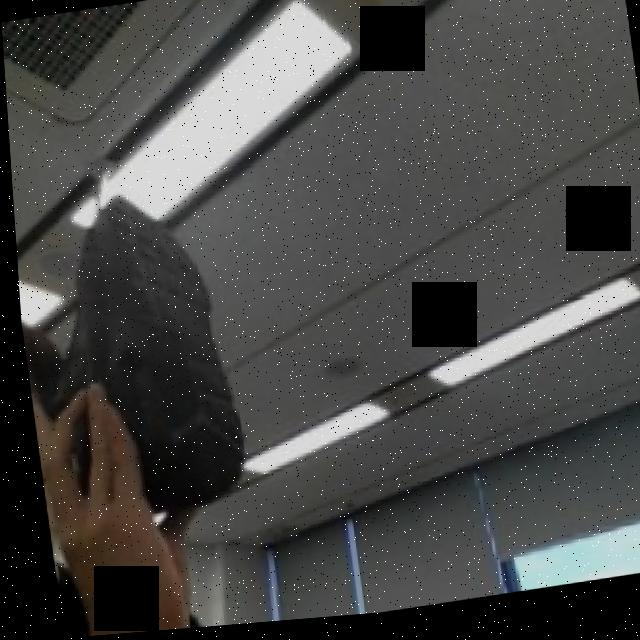shoe: (7, 101, 439, 518)
